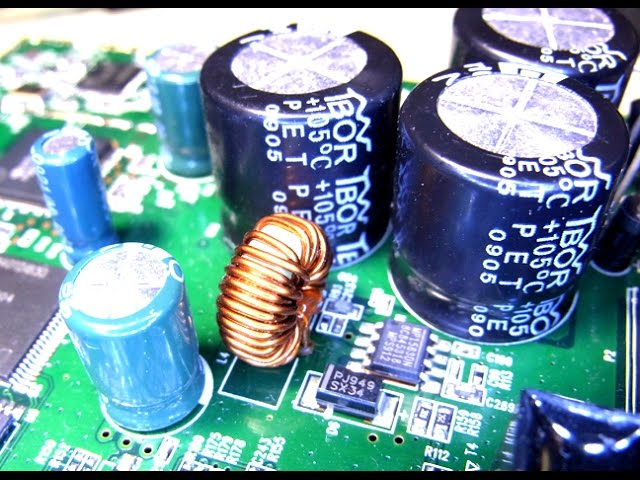capacitor: (395, 50, 628, 347), (52, 241, 206, 434), (27, 113, 124, 258)
